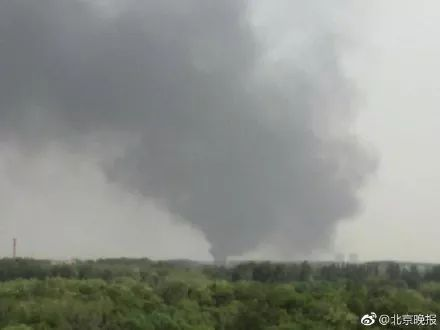smoke: (18, 9, 356, 235)
